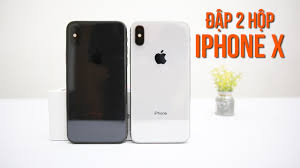iphone: (131, 19, 196, 147)
